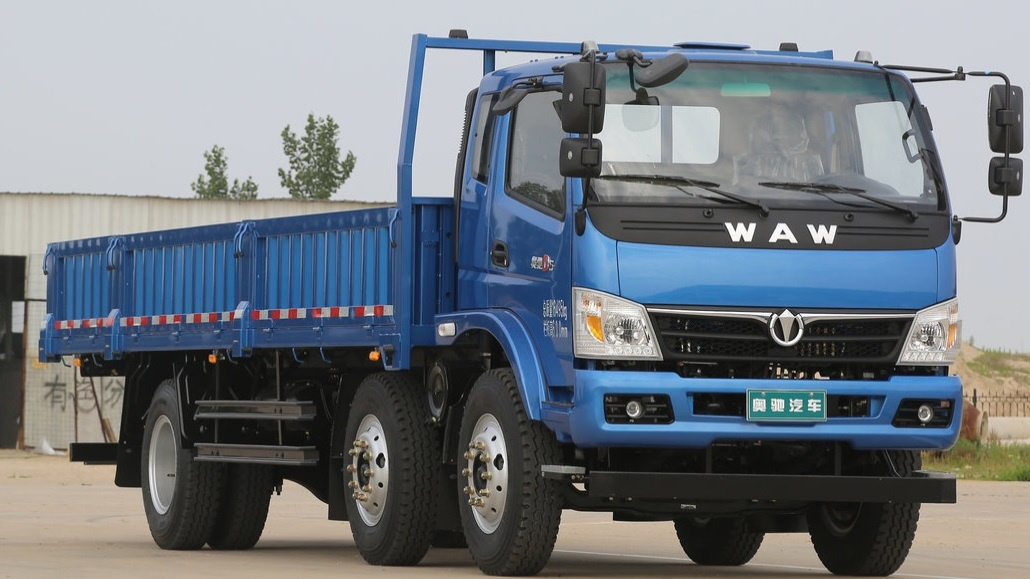heavy truck: (36, 34, 983, 556)
